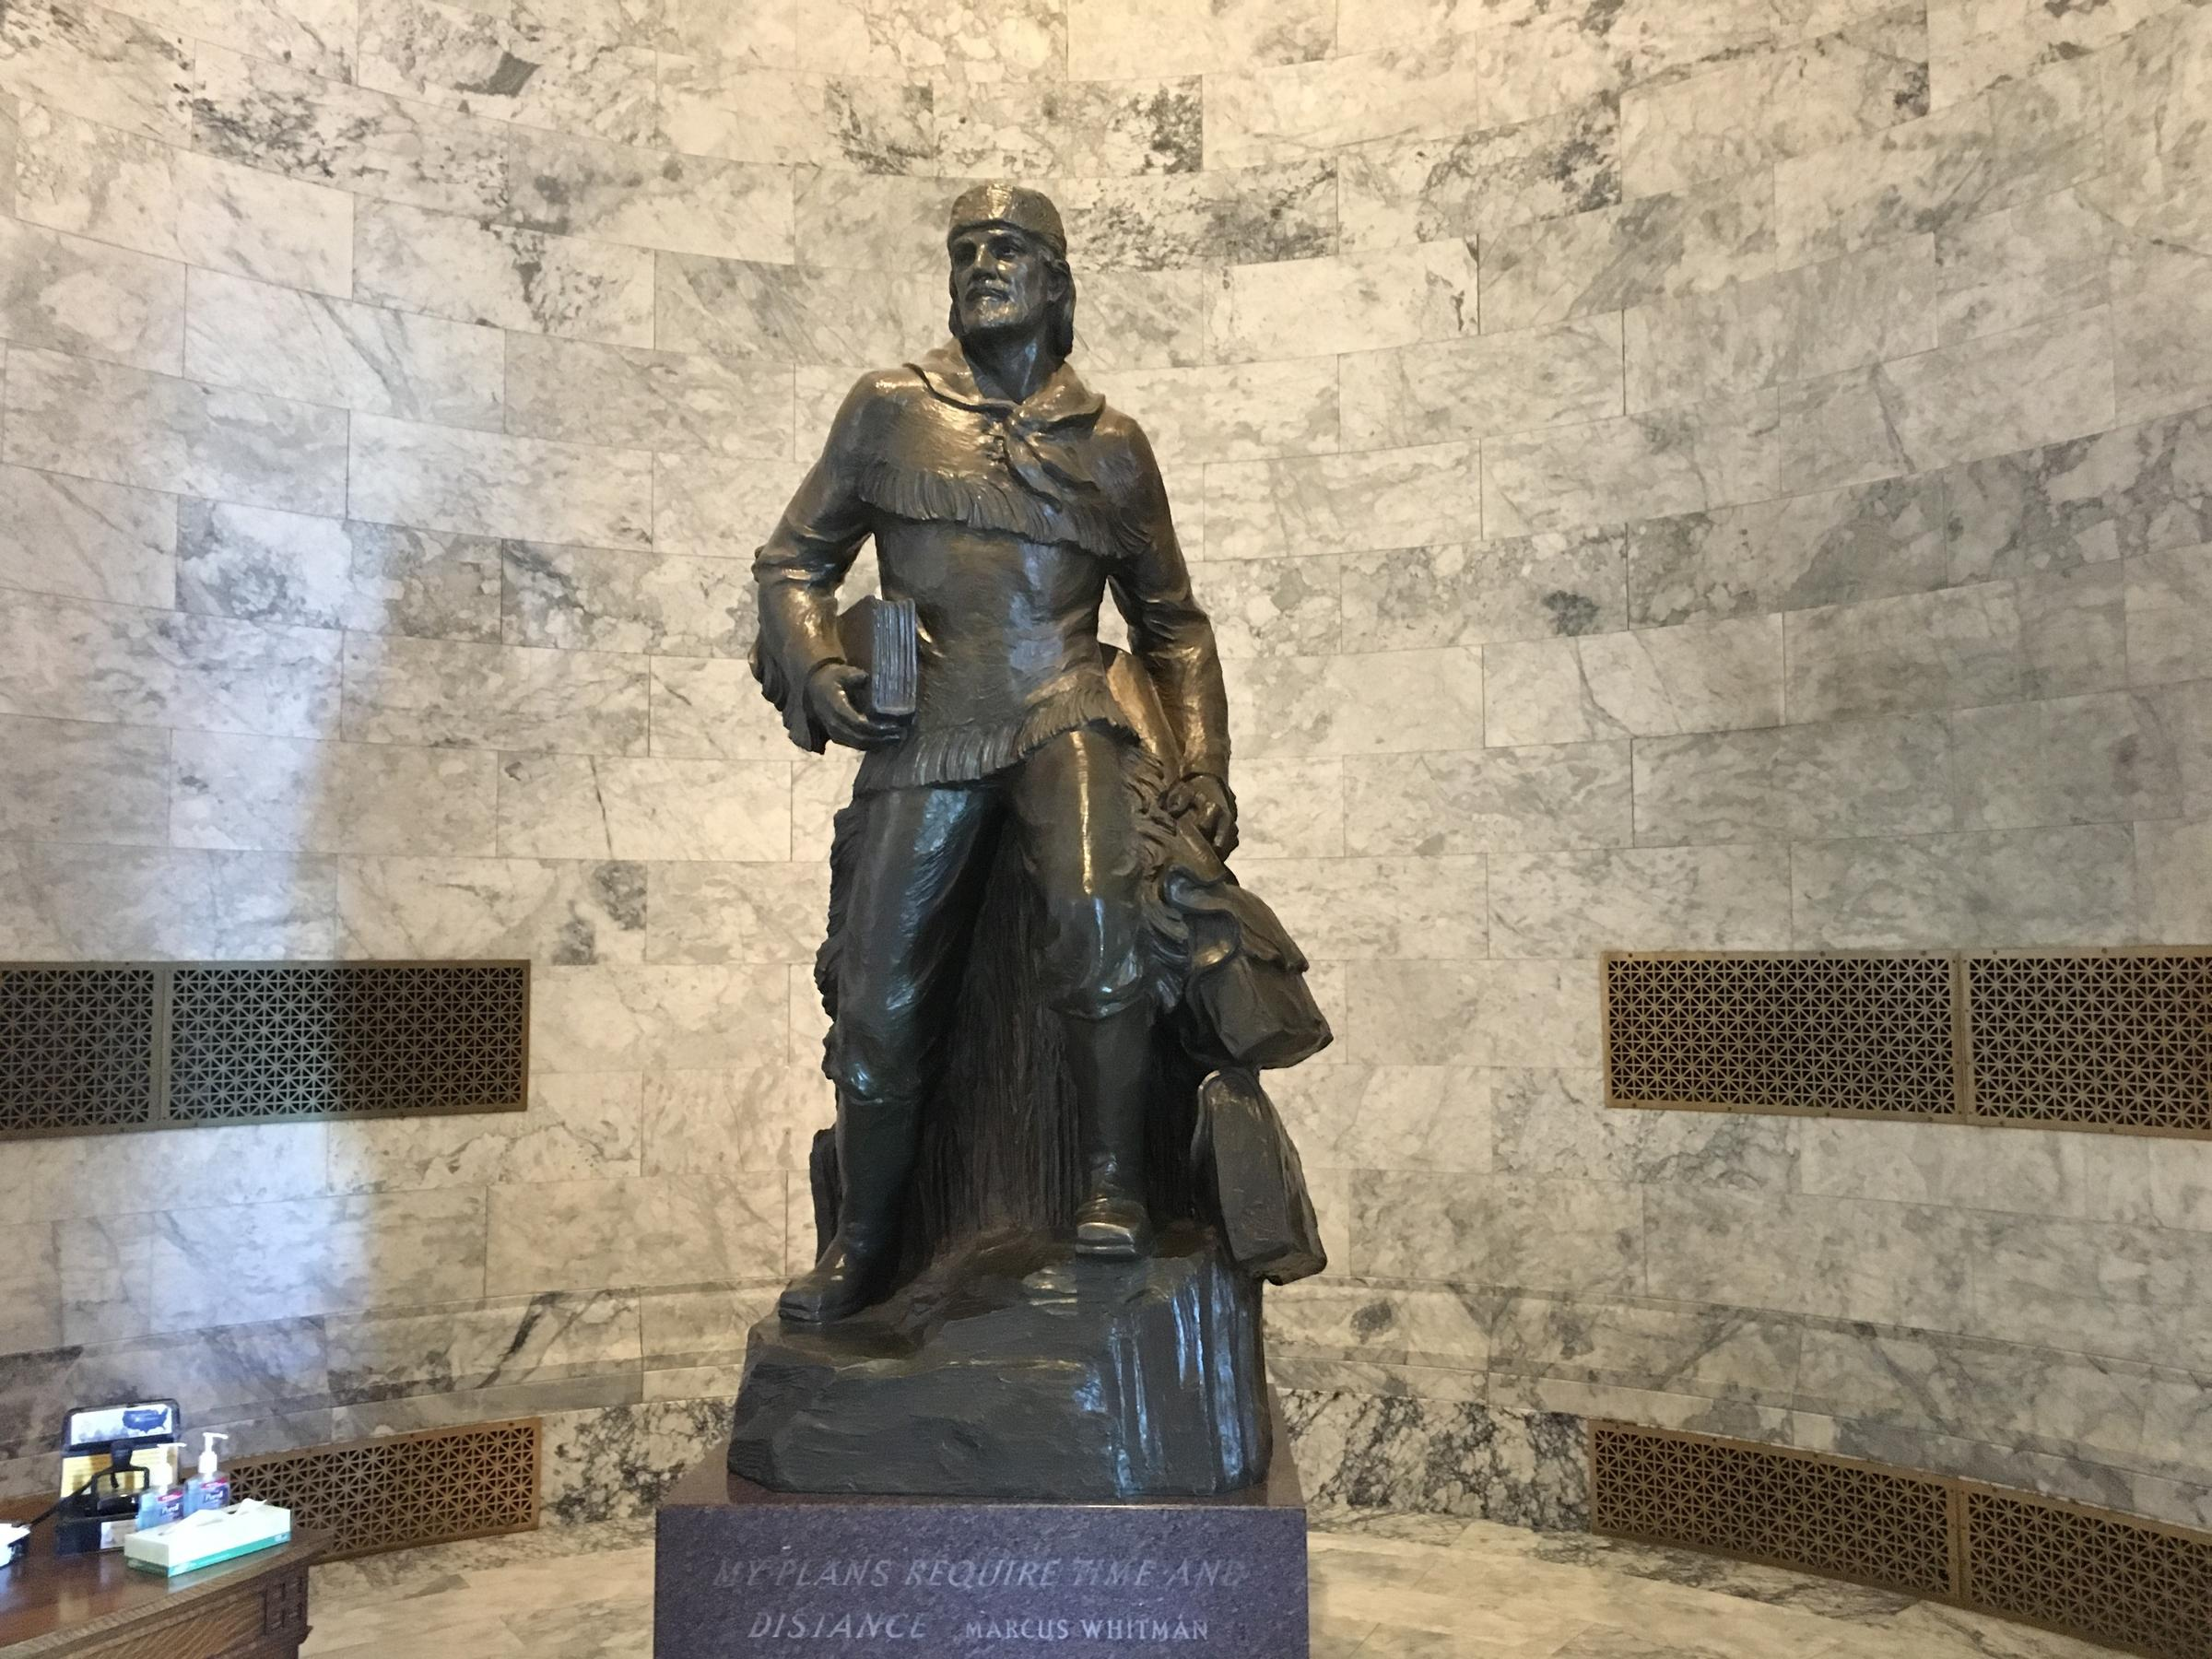person-like: (726, 166, 1313, 1347)
